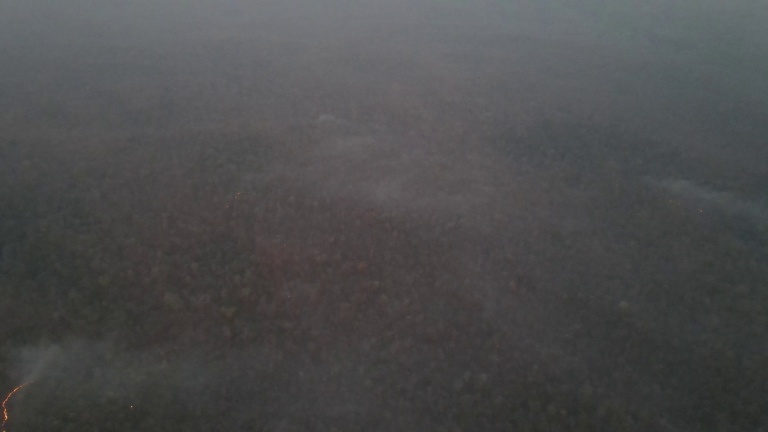fire: (1, 375, 41, 432), (223, 189, 243, 216), (696, 207, 707, 218), (663, 196, 676, 203)
smoke: (637, 171, 743, 210), (316, 111, 347, 126)
